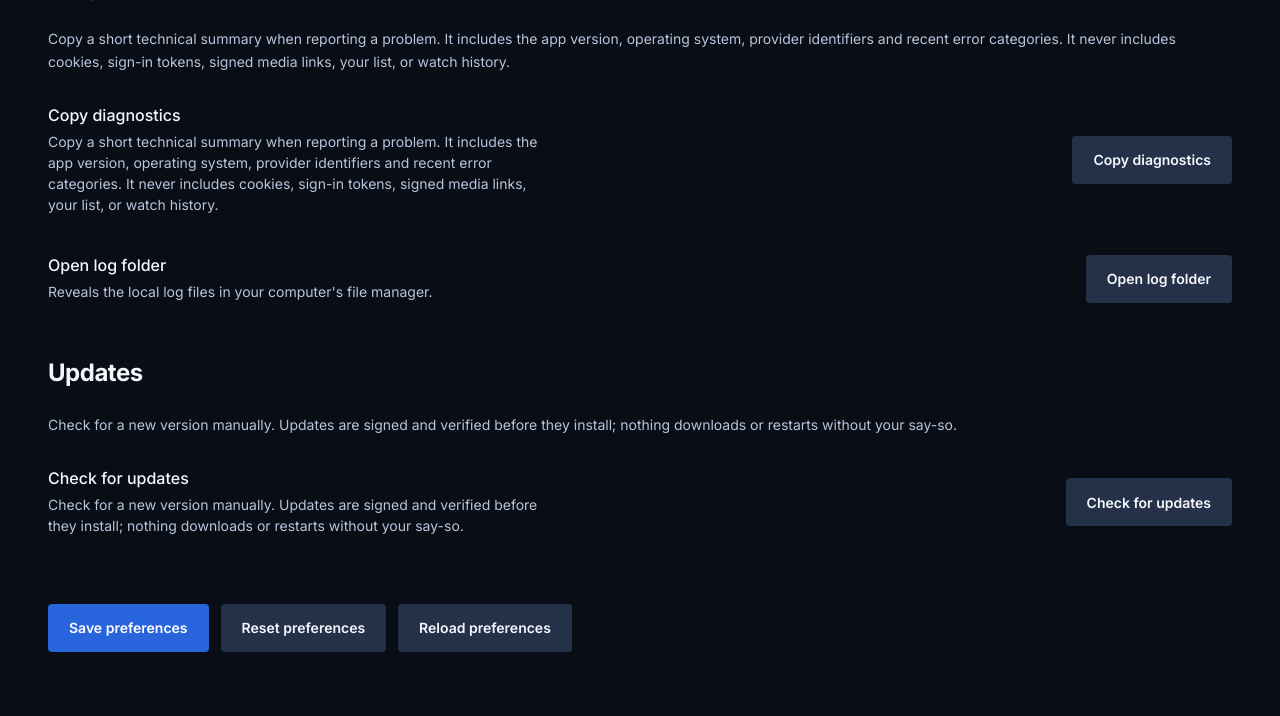
Test: Preferences update checks › shows a retryable error state when the update backend is unreachable
The width and height of the screenshot is (1280, 716).
(page scrolled)
Click the button "Check for updates" at (1149, 502), box [1066,478,1232,526]
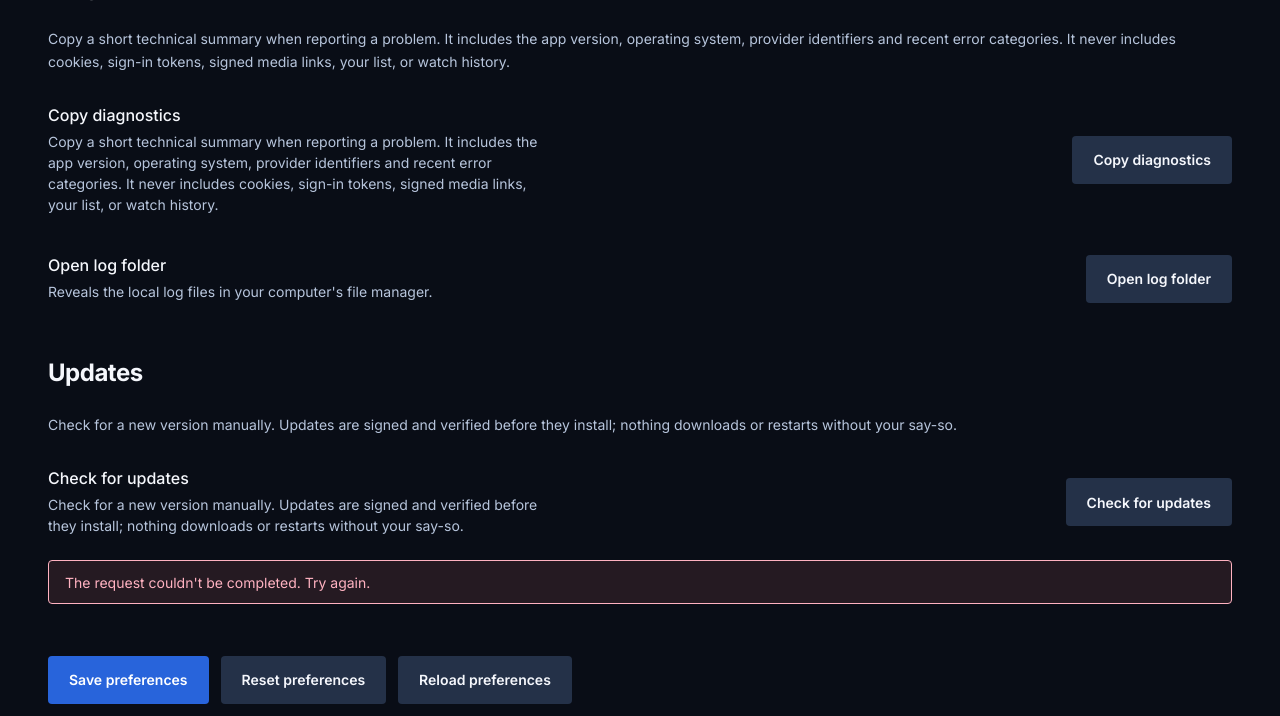
Expected: the text "The request couldn't be completed. Try again." is shown, [65,574,370,591]
